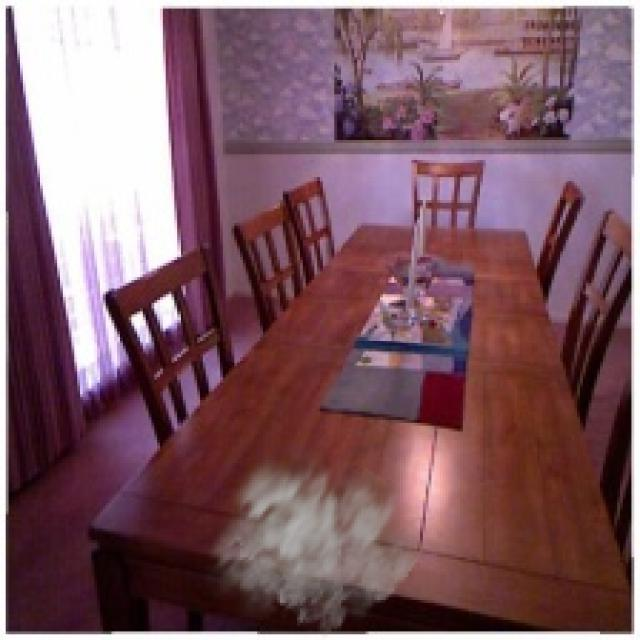smoke: (200, 429, 431, 637)
